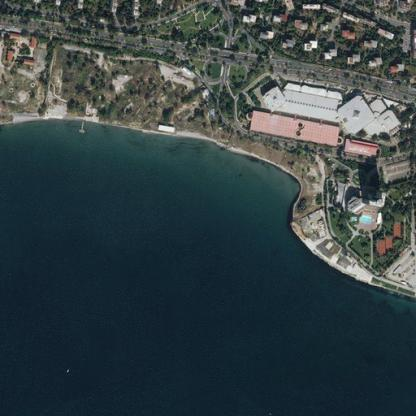ship: (66, 368, 69, 371)
